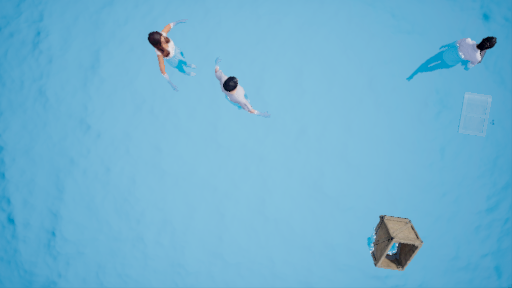person: (398, 30, 491, 88), (135, 17, 199, 93), (213, 65, 260, 120)
